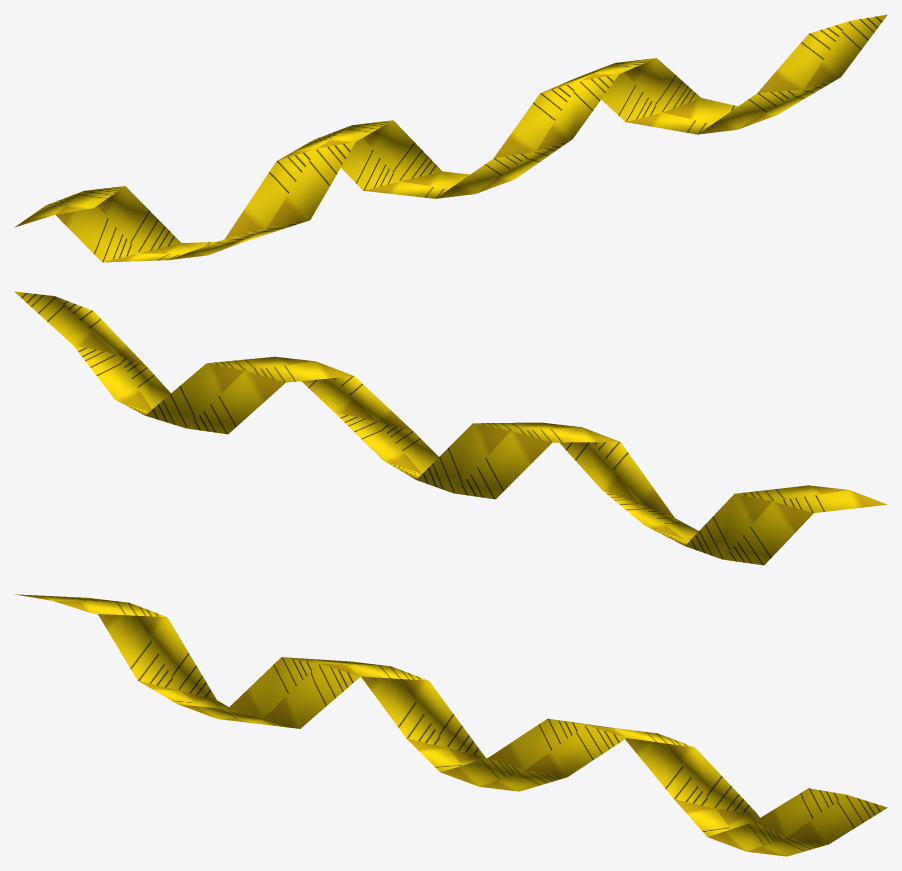
The model's file is InteriorLight06_Art.fbx.
3 renders of one model, top to bottom at view 1: azimuth 30°, elevation 25°; view 2: azimuth 150°, elevation 25°; view 3: azimuth 330°, elevation 25°, orthographic.
Visible parts, largest first — view 1: InteriorLight06_Art; view 2: InteriorLight06_Art; view 3: InteriorLight06_Art.
Part boxes in pixels (<box>): InteriorLight06_Art: <box>14,14,887,262</box>; InteriorLight06_Art: <box>14,291,886,565</box>; InteriorLight06_Art: <box>15,594,887,856</box>.
Size of the model in its own units: 3.96 by 0.3881 by 0.2876.
